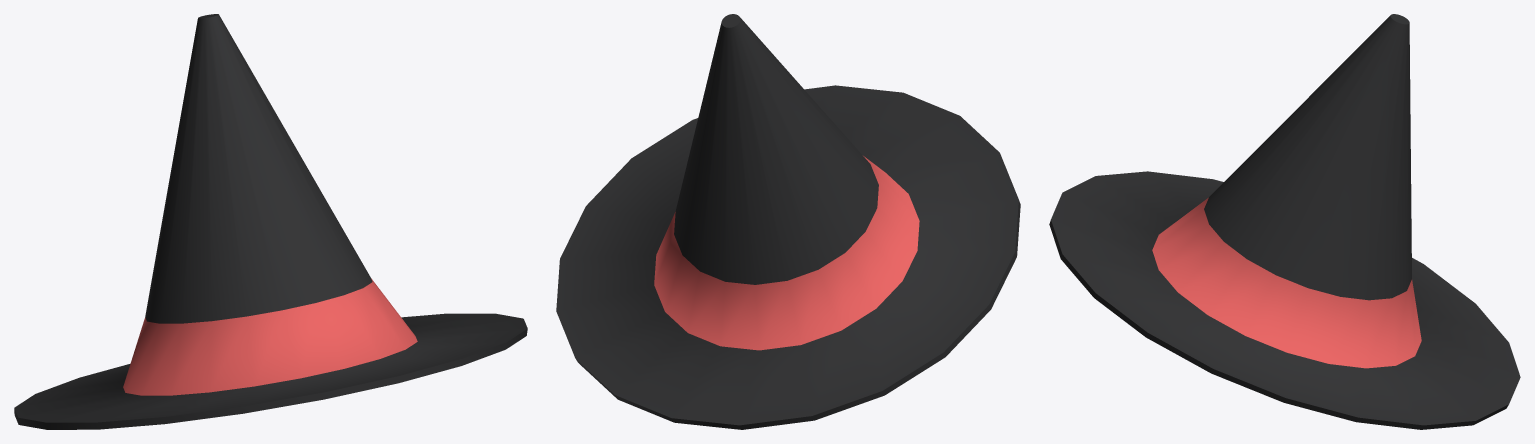
Rendered from witchhat.fbx.
The picture shows the model from 3 angles, left to right: view 1: azimuth 30°, elevation 25°; view 2: azimuth 150°, elevation 25°; view 3: azimuth 270°, elevation 25°; orthographic projection. The views are drawn at different scales.
Visible parts, largest first — view 1: witchhat; view 2: witchhat; view 3: witchhat.
Boxes of the visible parts, left/top/right/bottom form: witchhat: left=14, top=14, right=527, bottom=429; witchhat: left=556, top=14, right=1020, bottom=429; witchhat: left=1049, top=14, right=1520, bottom=429.
Bounding box in the file's own units: 60.95 × 52.17 × 60.76.
